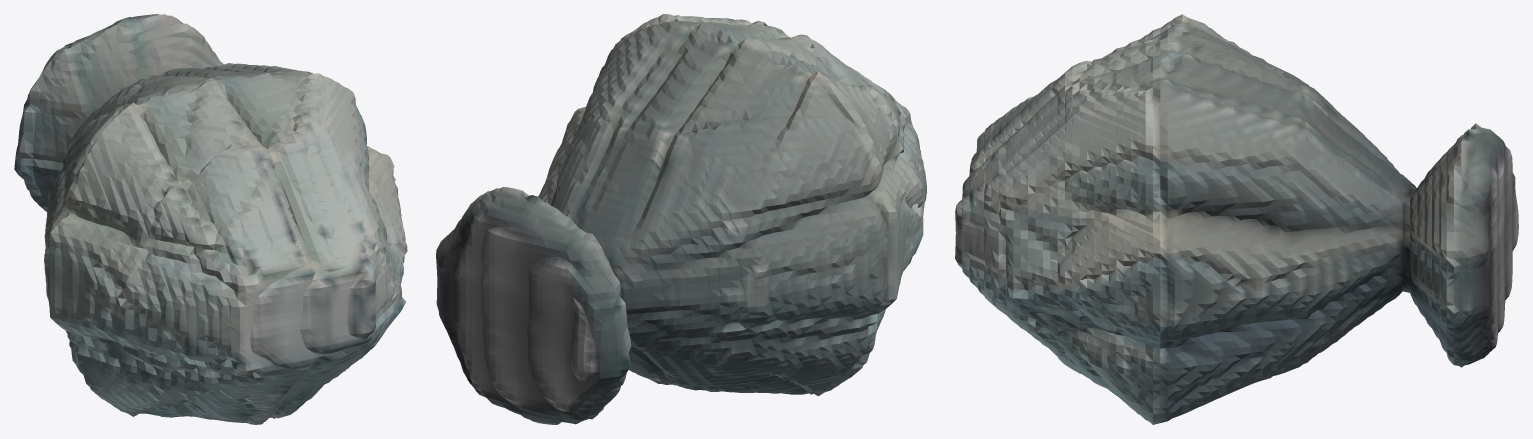
3 renders of one model, left to right at view 1: azimuth 30°, elevation 25°; view 2: azimuth 150°, elevation 25°; view 3: azimuth 270°, elevation 25°, orthographic. The views are drawn at different scales.
Visible parts, largest first — view 1: world; view 2: world; view 3: world.
Boxes of the visible parts, <box> form: world: <box>14,14,407,424</box>; world: <box>436,14,926,424</box>; world: <box>955,14,1518,424</box>.
Bounding box in the file's own units: 0.7245 × 0.7072 × 1.05.
